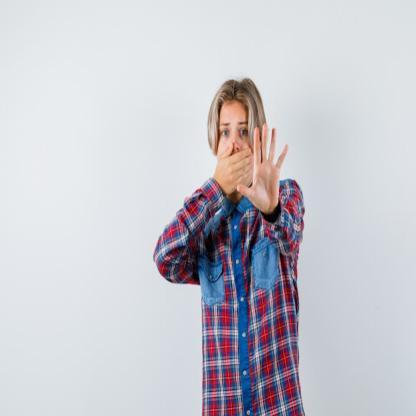stop: (236, 122, 289, 213)
